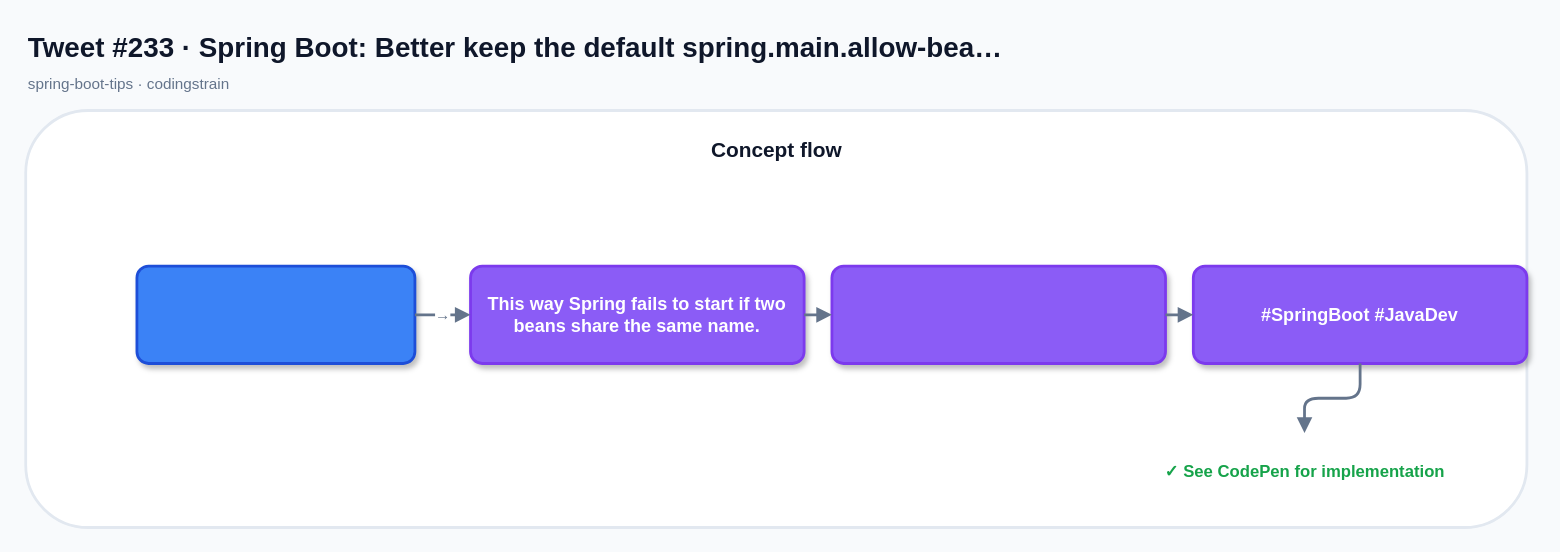
The diagram is 1560 pixels wide and 552 high, and some of its shapes have lost their labels. The shapes that lost their labels are listed below. From the top down, each one's centre as x and y in pixels, then its label:
point 276,316: Problem / context
point 999,316: Useful because bean overriding can hide configuration bugs
